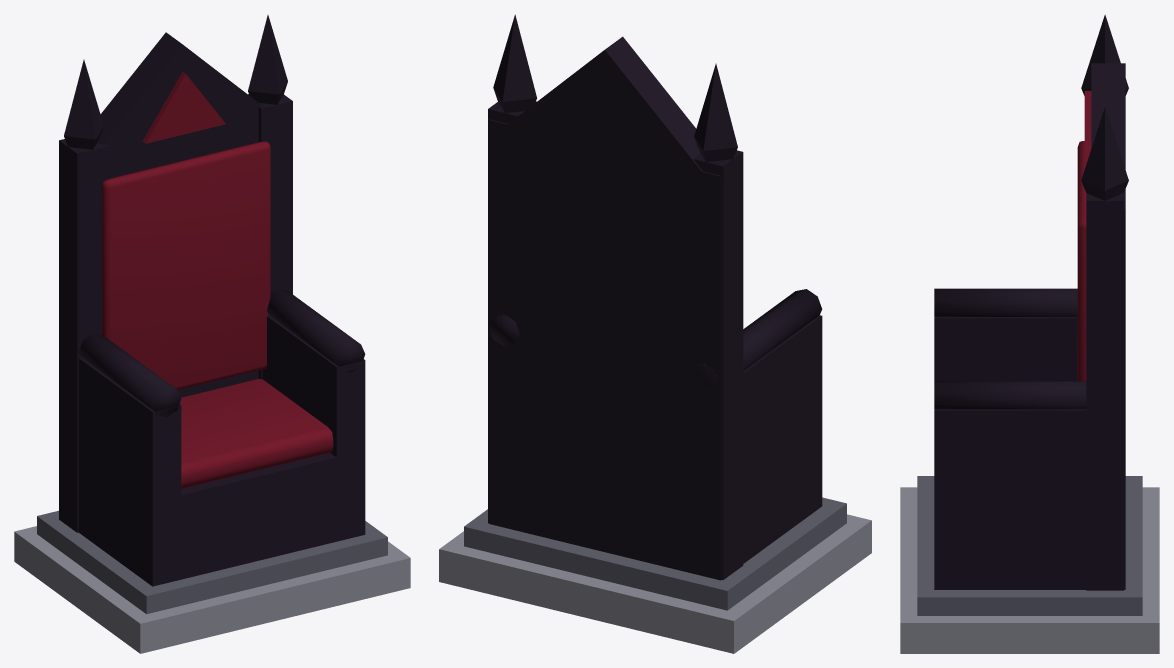
File: throne.glb
The picture shows the model from 3 angles, left to right: view 1: azimuth 30°, elevation 25°; view 2: azimuth 150°, elevation 25°; view 3: azimuth 270°, elevation 25°; orthographic projection. The views are drawn at different scales.
Visible parts, largest first — view 1: throne; view 2: throne; view 3: throne.
Part boxes in pixels (box(x1,y1,x2,y2)): throne: box(14, 15, 410, 653); throne: box(439, 14, 871, 653); throne: box(900, 14, 1159, 653).
Bounding box in the file's own units: 0.94 × 1.7 × 0.76.
